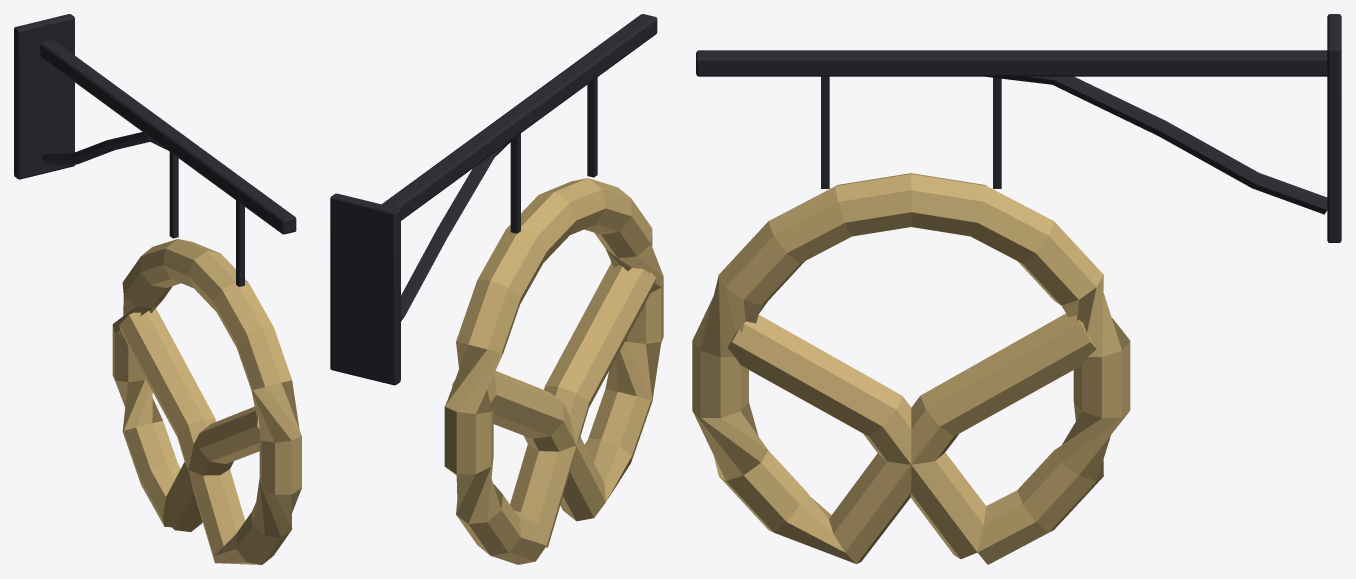
Rendered from bakery_sign.fbx.
The picture shows the model from 3 angles, left to right: view 1: azimuth 30°, elevation 25°; view 2: azimuth 150°, elevation 25°; view 3: azimuth 270°, elevation 25°; orthographic projection. The views are drawn at different scales.
Visible parts, largest first — view 1: bakery_sign; view 2: bakery_sign; view 3: bakery_sign.
Part boxes in pixels (<box>): bakery_sign: <box>14,14,301,564</box>; bakery_sign: <box>330,14,663,564</box>; bakery_sign: <box>692,14,1341,564</box>.
Size of the model in its own units: 0.12 by 0.9053 by 0.8184.
